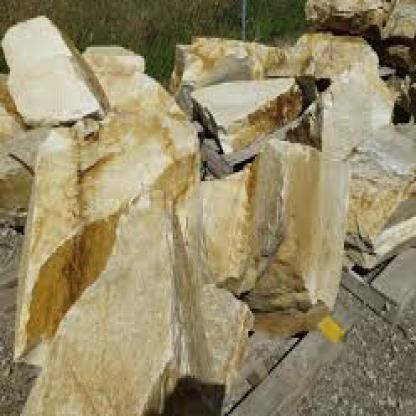Metamorphic_Quartize: (54, 192, 191, 414), (240, 130, 357, 320), (1, 0, 111, 155)
